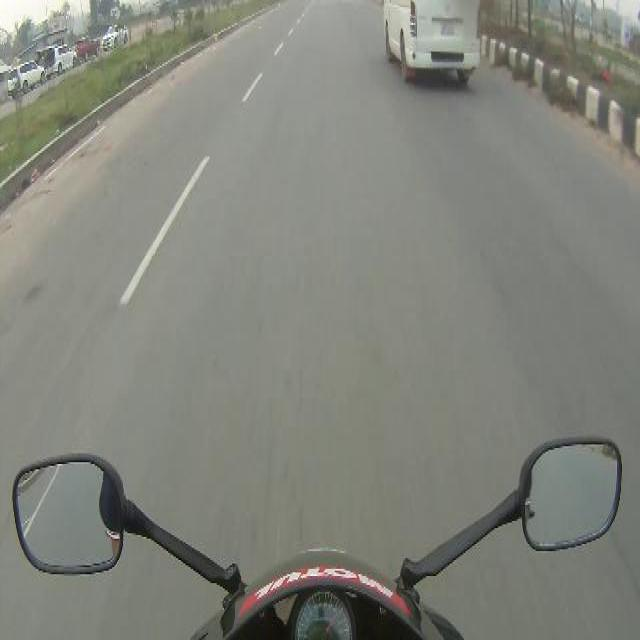car: (8, 61, 46, 92), (102, 22, 130, 46)
minivan: (381, 4, 485, 88)
motorbike: (10, 435, 622, 639)
suv: (44, 44, 76, 73), (75, 34, 99, 58)
